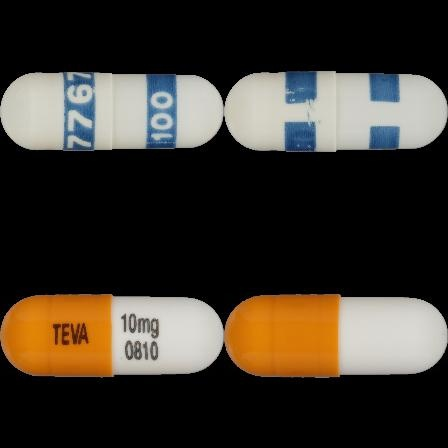66336-940: (0, 0, 224, 224)
